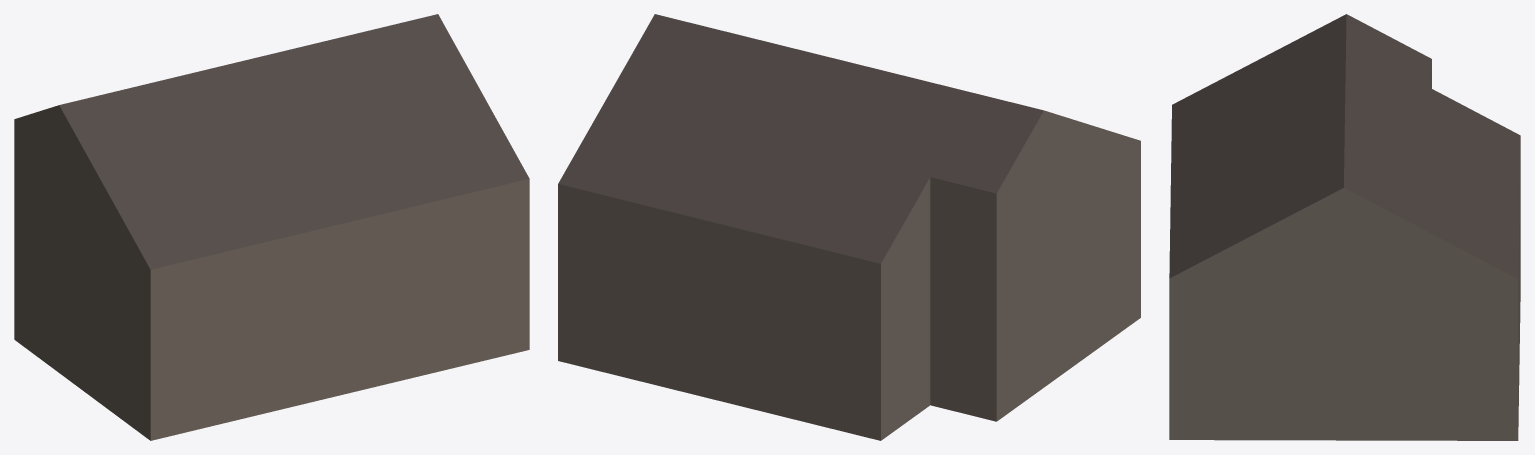
3 views of the same model, side by side, from view 1: azimuth 30°, elevation 25°; view 2: azimuth 150°, elevation 25°; view 3: azimuth 270°, elevation 25° (orthographic). The views are drawn at different scales.
Visible parts, largest first — view 1: HP-w1202494170; view 2: HP-w1202494170; view 3: HP-w1202494170.
Part boxes in pixels (x1,y1,x2,y2): HP-w1202494170: [14, 14, 529, 440]; HP-w1202494170: [558, 14, 1140, 440]; HP-w1202494170: [1169, 14, 1520, 440].
Size of the model in its own units: 13.93 by 9.39 by 11.83.
